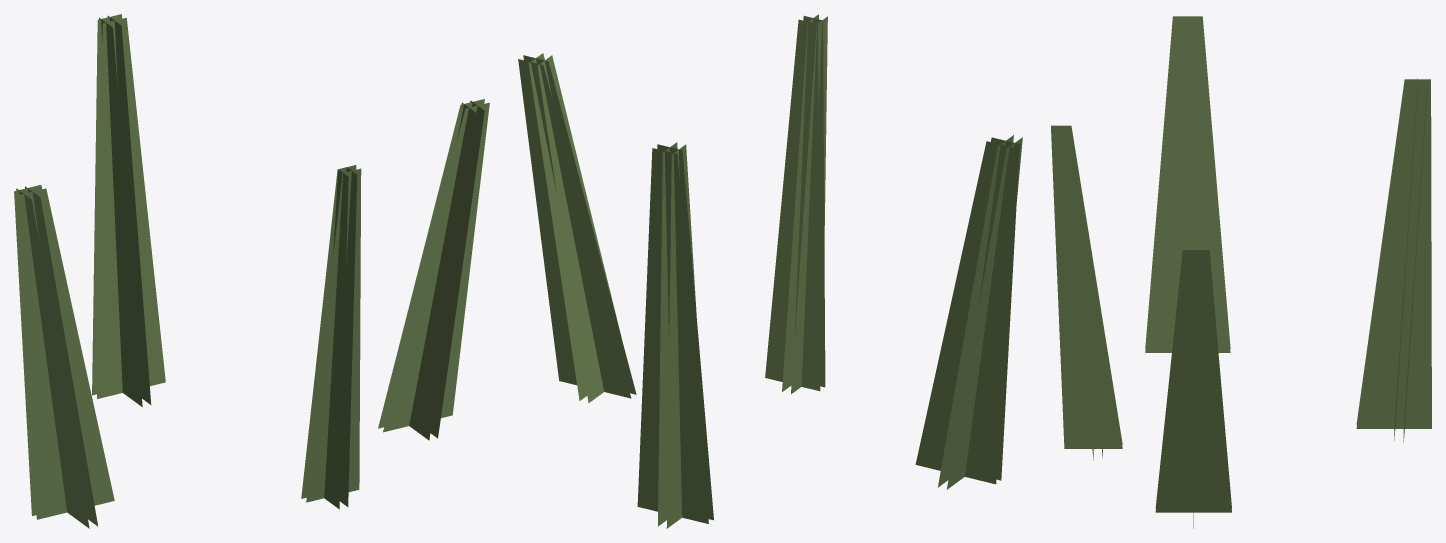
File: grass_tuft_sparse.glb
3 renders of one model, left to right at view 1: azimuth 30°, elevation 25°; view 2: azimuth 150°, elevation 25°; view 3: azimuth 270°, elevation 25°, orthographic. The views are drawn at different scales.
Visible parts, largest first — view 1: grass_tuft_sparse; view 2: grass_tuft_sparse; view 3: grass_tuft_sparse.
Boxes of the visible parts, x1,y1,x2,y2 form: grass_tuft_sparse: (14,14,489,528); grass_tuft_sparse: (518,14,1022,528); grass_tuft_sparse: (1051,16,1431,528).
Size of the model in its own units: 0.2752 by 0.2004 by 0.2012.
